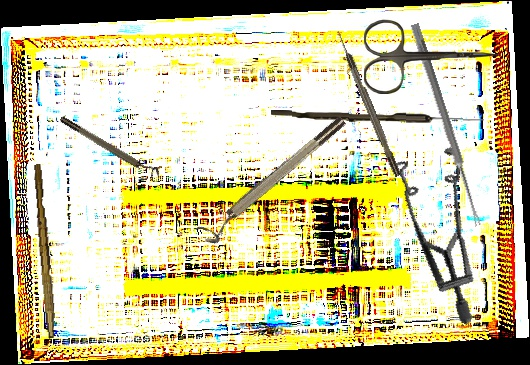Fixation Ring: (195, 113, 354, 248), (58, 110, 162, 183)
Hook Surgical: (334, 29, 402, 178)
Iris Scissors: (364, 19, 500, 94)
Scalpel Handle: (29, 163, 61, 339)
Speculum: (352, 128, 523, 326)
Surgical Spoon: (409, 23, 484, 227), (270, 110, 485, 124)
